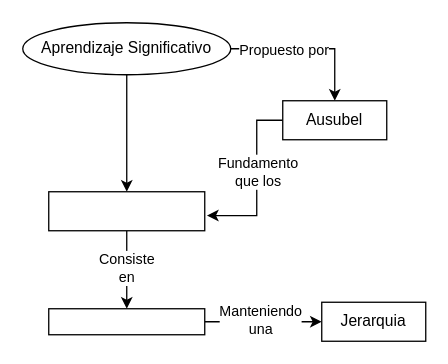
Some shapes in this 448 by 364 pixel diagram are drawn without their labels. Each missing label, with the centre of its shape:
Enlazar conceptos: point 126,321
Mapas conceptuales: point 126,210
